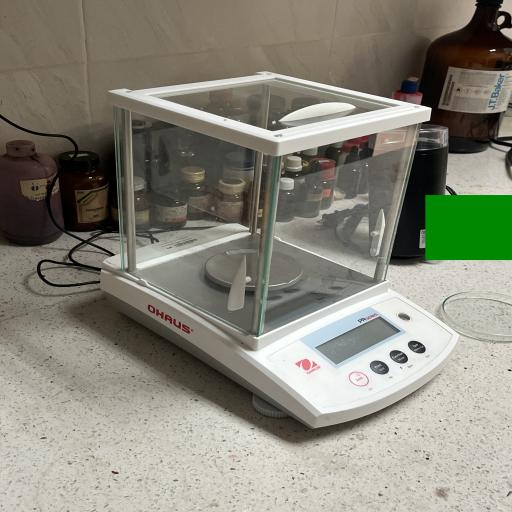Balanza_Analitica_Ohaus: (84, 63, 476, 435)
